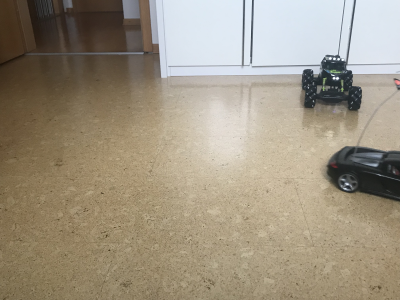remote control car: (298, 50, 364, 114)
